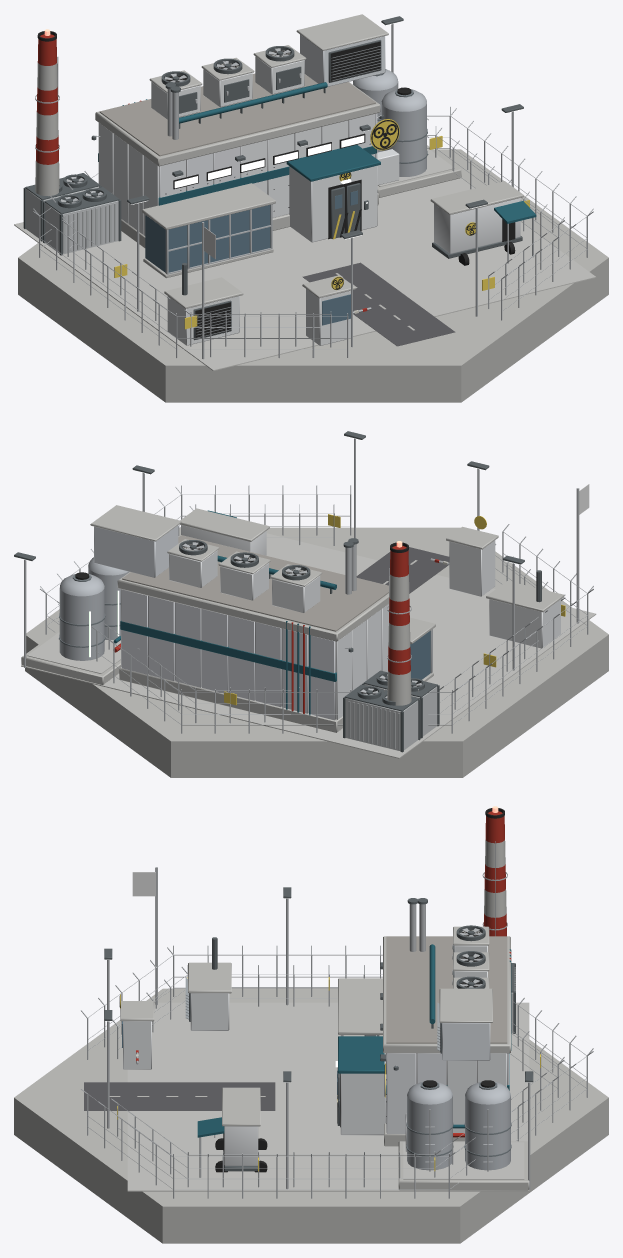
The model's file is specialLab.glb.
3 views of the same model, one above another, from view 1: azimuth 30°, elevation 25°; view 2: azimuth 150°, elevation 25°; view 3: azimuth 270°, elevation 25° (orthographic).
Visible parts, largest first — view 1: wall_concrete, pavers, cladding, metal, paint, gravel, steel_dark, glass, dark, asphalt, hazard, glow_cyan; view 2: wall_concrete, cladding, pavers, metal, paint, gravel, steel_dark, asphalt, glass, hazard; view 3: wall_concrete, pavers, metal, cladding, gravel, paint, asphalt, steel_dark, dark, banner.
Boxes of the visible parts, <box> form: wall_concrete: <box>18,14,608,402</box>; pavers: <box>14,148,596,370</box>; cladding: <box>98,34,520,345</box>; metal: <box>33,24,593,359</box>; paint: <box>26,34,536,313</box>; gravel: <box>99,73,375,156</box>; steel_dark: <box>23,16,523,340</box>; glass: <box>145,190,357,325</box>; dark: <box>37,31,515,339</box>; asphalt: <box>302,262,455,346</box>; hazard: <box>114,119,529,329</box>; glow_cyan: <box>174,135,364,188</box>; wall_concrete: <box>21,505,608,777</box>; cladding: <box>94,525,560,720</box>; pavers: <box>21,533,596,758</box>; metal: <box>24,438,593,733</box>; paint: <box>59,510,447,751</box>; gravel: <box>122,535,388,631</box>; steel_dark: <box>14,431,541,752</box>; asphalt: <box>356,547,449,593</box>; glass: <box>410,631,430,679</box>; hazard: <box>224,514,565,705</box>; wall_concrete: <box>14,839,608,1243</box>; pavers: <box>127,1002,529,1191</box>; metal: <box>81,841,593,1198</box>; cladding: <box>123,945,509,1165</box>; gravel: <box>386,936,507,1043</box>; paint: <box>136,811,515,1156</box>; asphalt: <box>84,1082,275,1110</box>; steel_dark: <box>104,887,533,1171</box>; dark: <box>119,808,504,1172</box>; banner: <box>132,872,155,896</box>.
Bounding box in the file's own units: 21.3 × 11.02 × 24.6.
